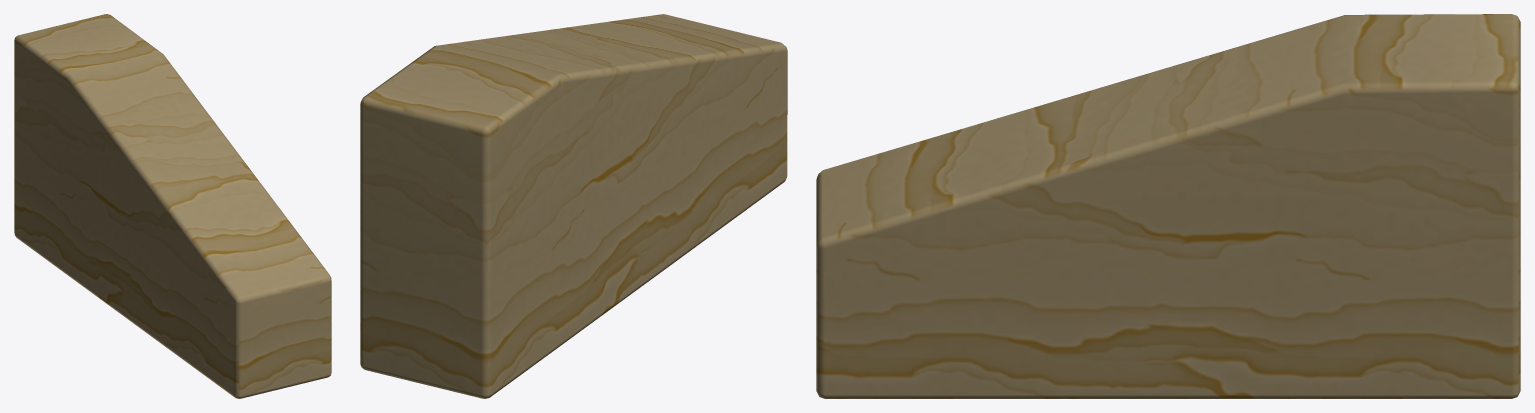
File: SM_Platform_1m_04_B_Ramp.glb
3 views of the same model, side by side, from view 1: azimuth 30°, elevation 25°; view 2: azimuth 150°, elevation 25°; view 3: azimuth 270°, elevation 25° (orthographic). The views are drawn at different scales.
Visible parts, largest first — view 1: SM_Platform_1m_04_B_Ramp; view 2: SM_Platform_1m_04_B_Ramp; view 3: SM_Platform_1m_04_B_Ramp.
Part boxes in pixels (bbox=[...]): SM_Platform_1m_04_B_Ramp: bbox=[14, 14, 331, 398]; SM_Platform_1m_04_B_Ramp: bbox=[360, 14, 787, 398]; SM_Platform_1m_04_B_Ramp: bbox=[816, 14, 1520, 398].
Size of the model in its own units: 1 by 2 by 4.01.
Materials: 1 (1 with a texture image).
